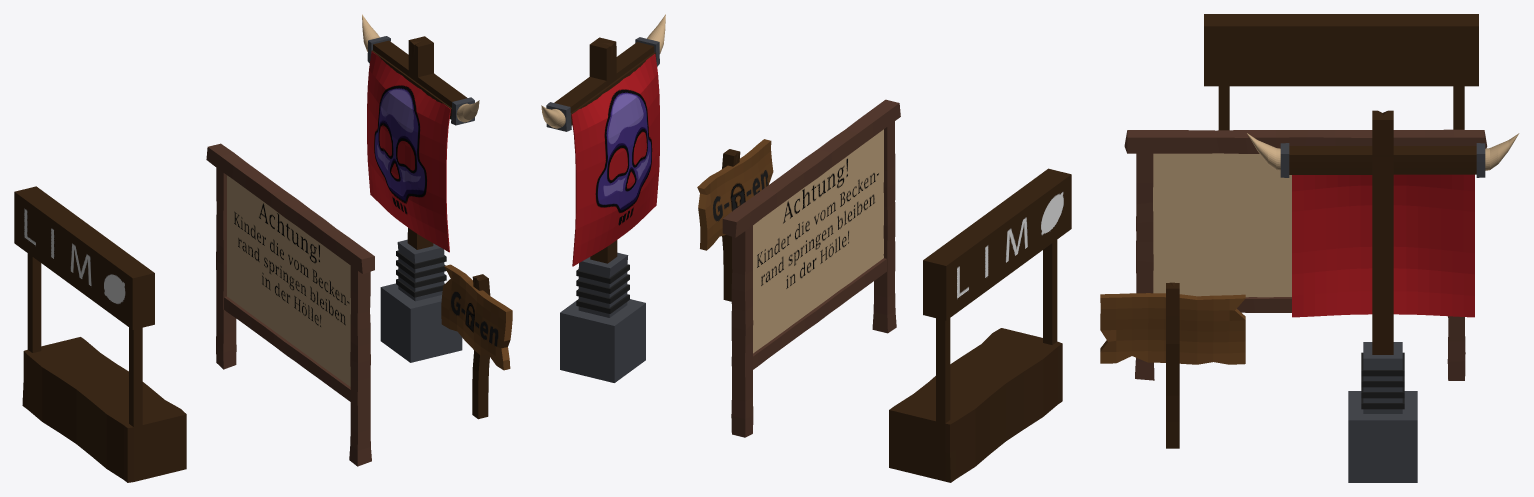
Rendered from SchriftExpoV2.fbx.
3 views of the same model, side by side, from view 1: azimuth 30°, elevation 25°; view 2: azimuth 150°, elevation 25°; view 3: azimuth 270°, elevation 25° (orthographic). The views are drawn at different scales.
Visible parts, largest first — view 1: Tafel, Limmo, Schädelbanner, Schild; view 2: Tafel, Limmo, Schädelbanner, Schild; view 3: Schädelbanner, Tafel, Limmo, Schild.
Boxes of the visible parts, bbox=[...] form: Tafel: bbox=[206, 143, 374, 466]; Limmo: bbox=[14, 186, 186, 482]; Schädelbanner: bbox=[362, 14, 479, 362]; Schild: bbox=[441, 264, 512, 419]; Tafel: bbox=[722, 99, 900, 437]; Limmo: bbox=[889, 168, 1071, 482]; Schädelbanner: bbox=[541, 14, 665, 382]; Schild: bbox=[697, 139, 773, 301]; Schädelbanner: bbox=[1247, 110, 1519, 482]; Tafel: bbox=[1124, 129, 1487, 380]; Limmo: bbox=[1204, 14, 1478, 130]; Schild: bbox=[1100, 282, 1245, 448].
Size of the model in its own units: 426 by 320 by 341.
